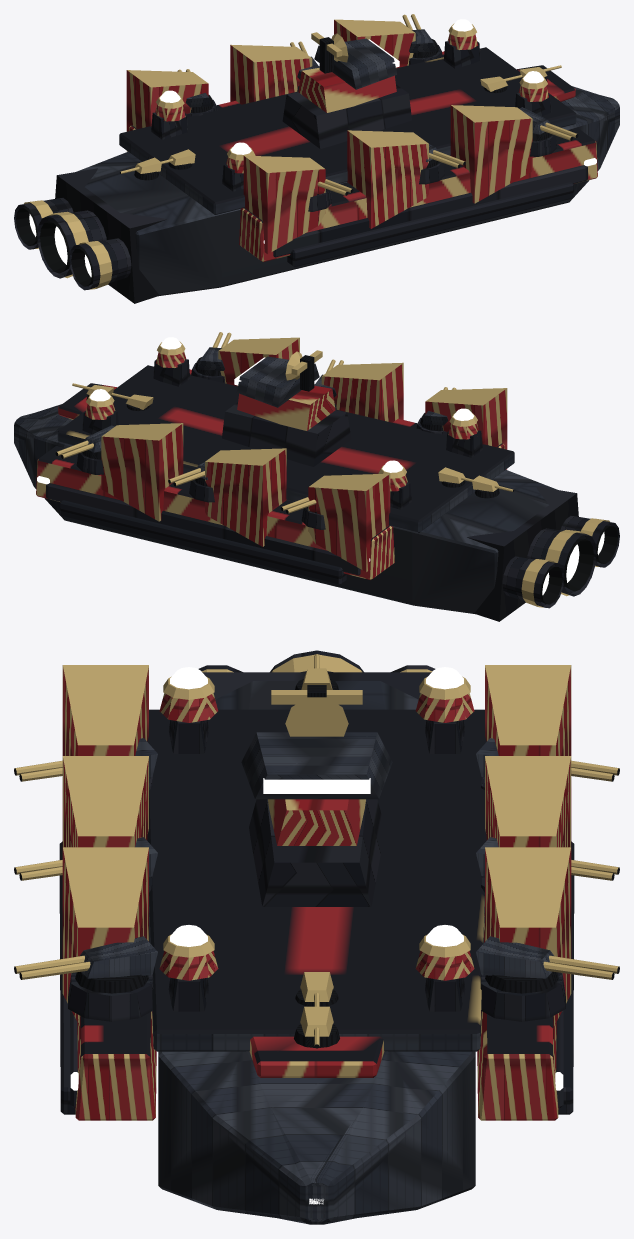
Rendered from cruiser.glb.
3 renders of one model, top to bottom at view 1: azimuth 30°, elevation 25°; view 2: azimuth 150°, elevation 25°; view 3: azimuth 270°, elevation 25°, orthographic. The views are drawn at different scales.
Parts seen in each view (by area): view 1: hull_body, engine_block, sensor_tower, weapon_turrets, shield_pylons; view 2: hull_body, engine_block, sensor_tower, weapon_turrets, shield_pylons; view 3: hull_body, sensor_tower, weapon_turrets, shield_pylons, engine_block.
Boxes of the visible parts, left/top/right/bottom form: hull_body: left=76, top=19, right=619, bottom=296; engine_block: left=14, top=168, right=166, bottom=303; sensor_tower: left=282, top=32, right=411, bottom=148; weapon_turrets: left=120, top=14, right=578, bottom=211; shield_pylons: left=151, top=19, right=551, bottom=191; hull_body: left=14, top=337, right=557, bottom=614; engine_block: left=467, top=486, right=619, bottom=621; sensor_tower: left=222, top=350, right=351, bottom=466; weapon_turrets: left=55, top=332, right=513, bottom=529; shield_pylons: left=82, top=337, right=482, bottom=509; hull_body: left=59, top=665, right=574, bottom=1224; sensor_tower: left=241, top=685, right=392, bottom=906; weapon_turrets: left=14, top=654, right=619, bottom=1048; shield_pylons: left=159, top=667, right=474, bottom=1011; engine_block: left=198, top=650, right=435, bottom=699.
Size of the model in its own units: 42 by 13.22 by 21.7.
1 material, 1 textured.
